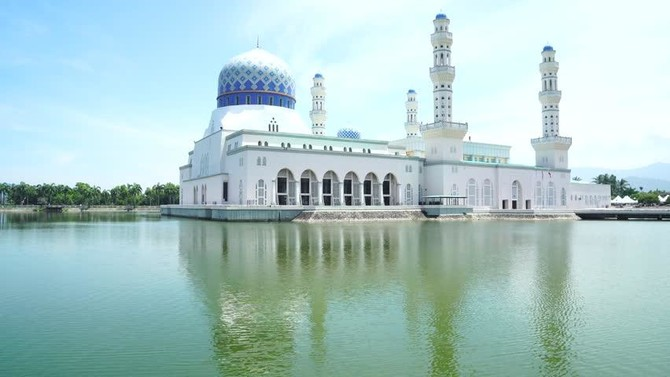Mosque: (184, 9, 589, 223)
